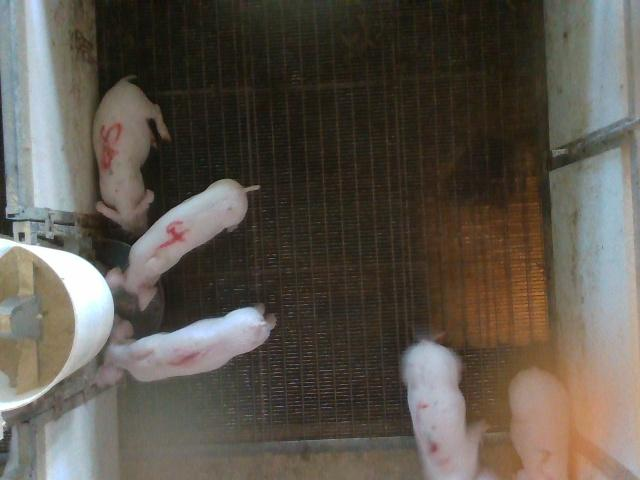pig-1: (96, 306, 275, 386)
pig-3: (401, 340, 482, 479)
pig-4: (106, 179, 258, 309)
pig-5: (92, 75, 171, 236)
